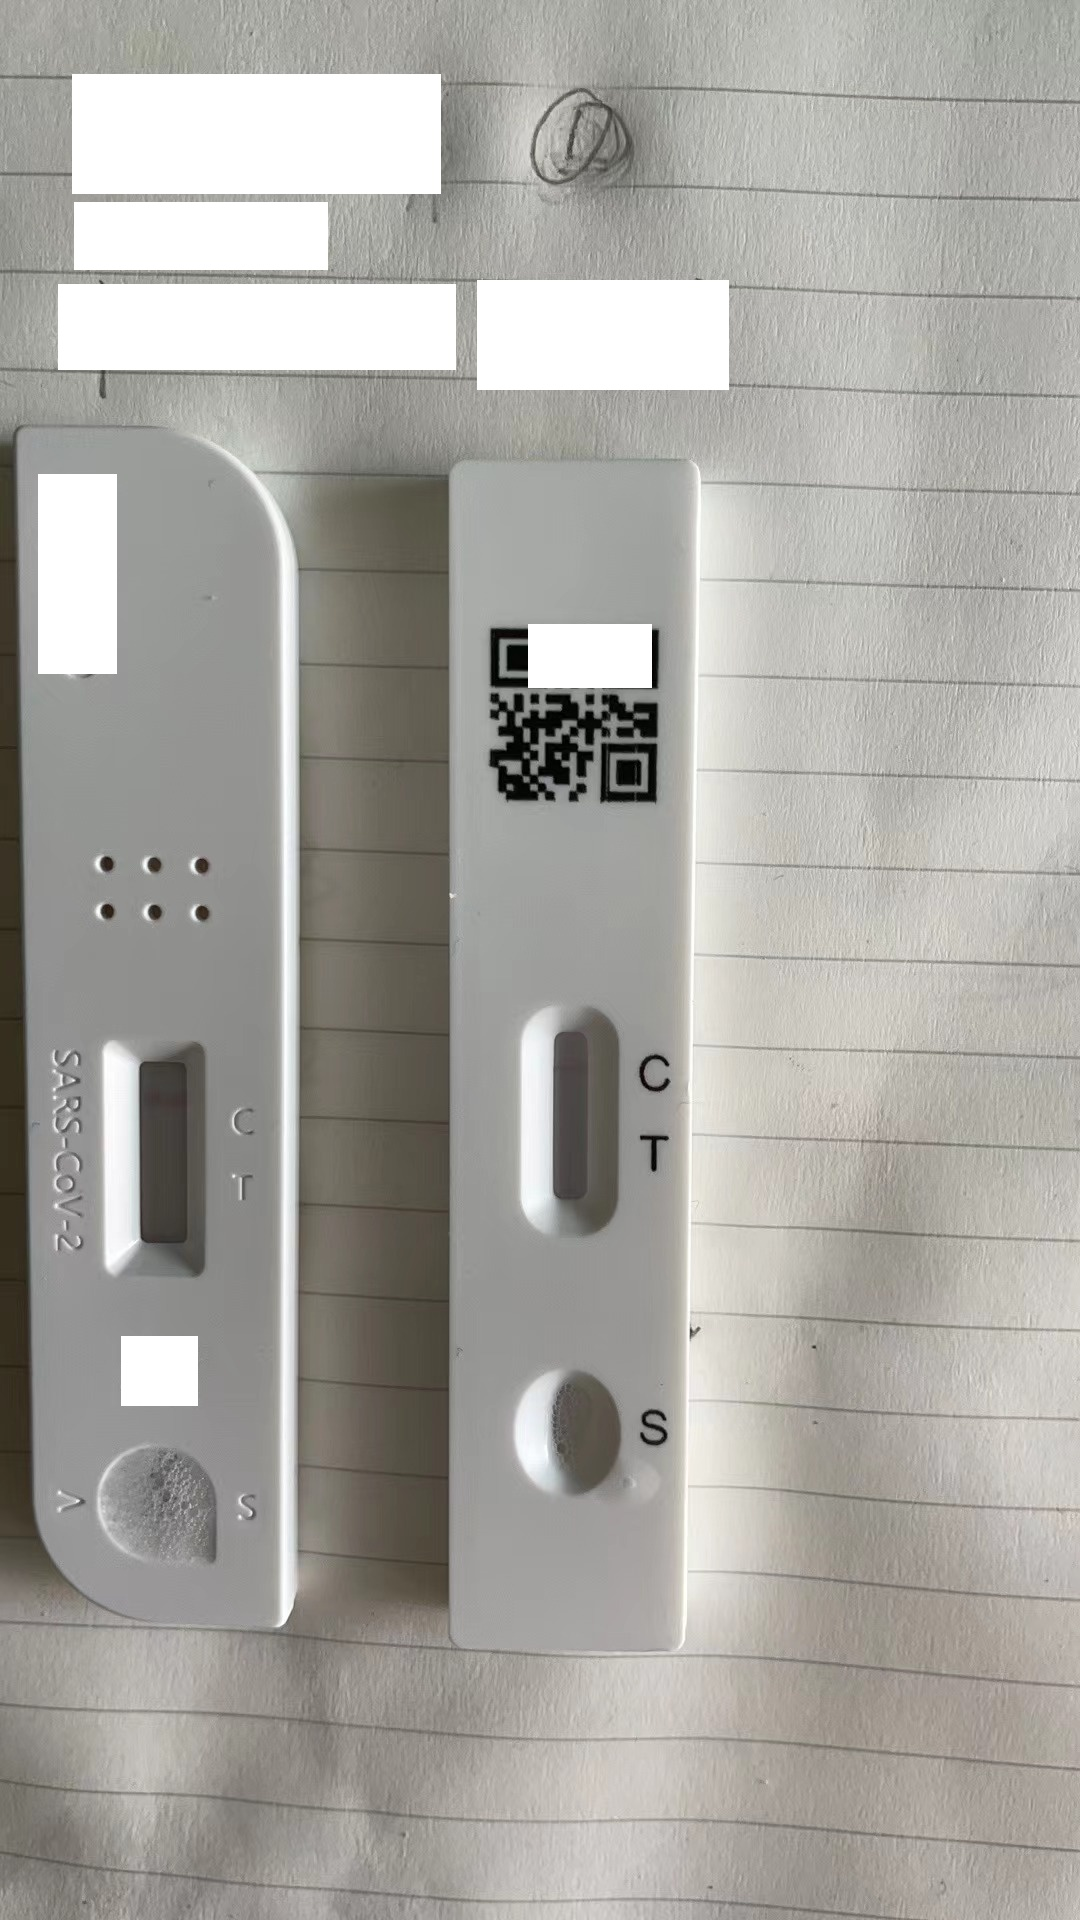negative: (112, 1038, 207, 1284), (522, 1000, 618, 1241)
